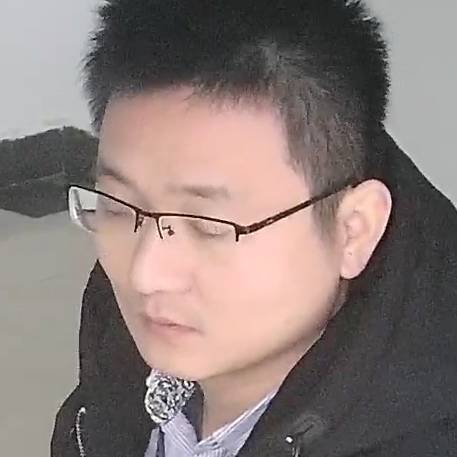gg: (53, 33, 410, 390)
